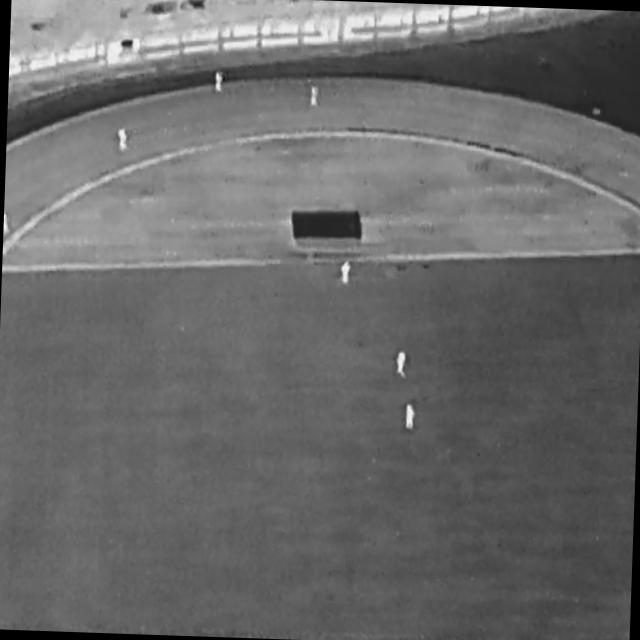person: (395, 351, 409, 379), (117, 128, 129, 152), (405, 404, 416, 430), (341, 261, 352, 286), (310, 86, 321, 107), (215, 73, 224, 94), (4, 213, 11, 236)
